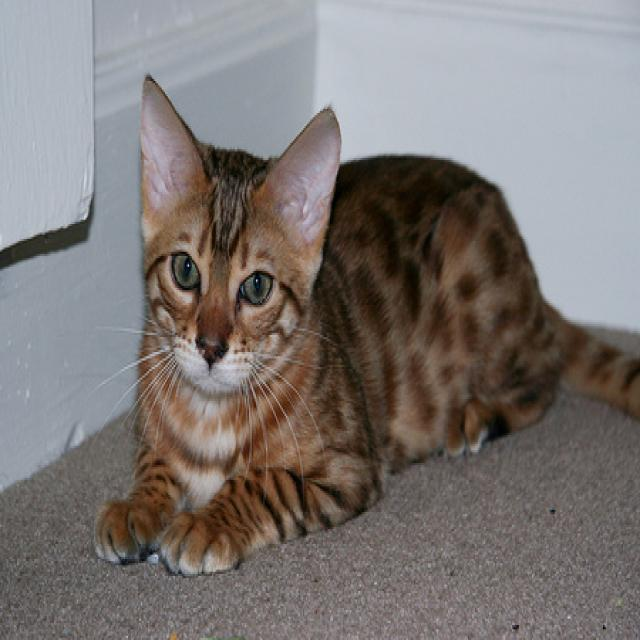Bengal: (81, 58, 640, 616)
